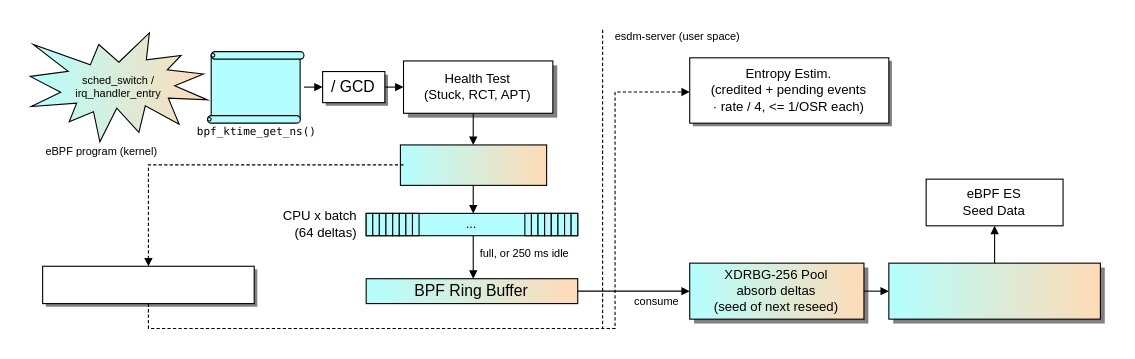
Image size: 1135x359. Some labels were removed from this diagram. Each missing label, with the box of its shape:
64-bit time stamp: (210, 54, 300, 119)
delta d = t - t_prev (64 bits): (399, 143, 546, 185)
Extract: reseed + generate alpha = "ESDM eBPF pool " || name: (887, 262, 1100, 319)
Per-CPU State Map (health state, delta count): (41, 265, 254, 303)
